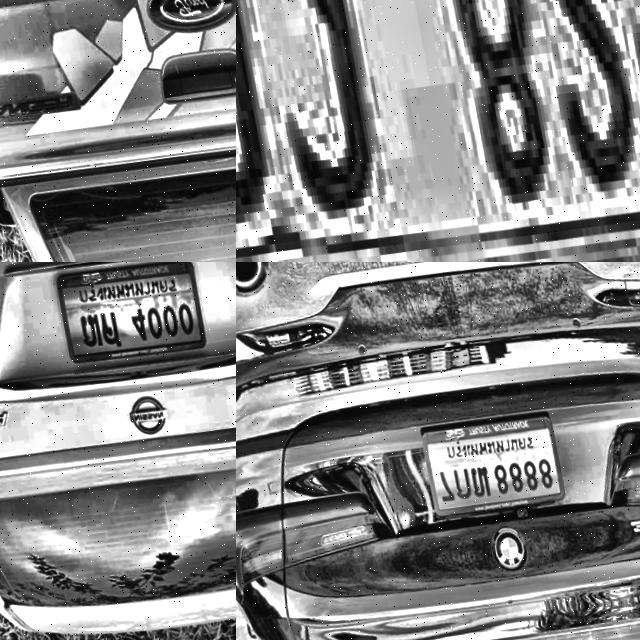license-plate: (236, 0, 640, 262), (416, 410, 566, 522), (51, 262, 207, 366)
